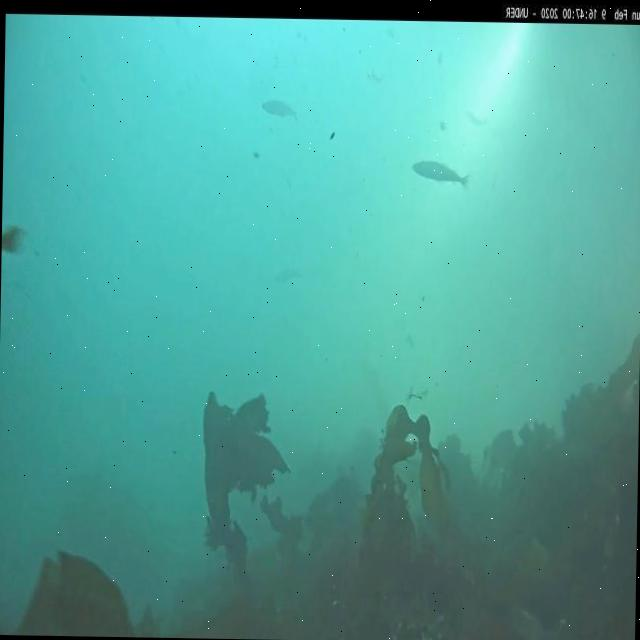fish: (410, 158, 470, 191), (262, 98, 298, 120)
